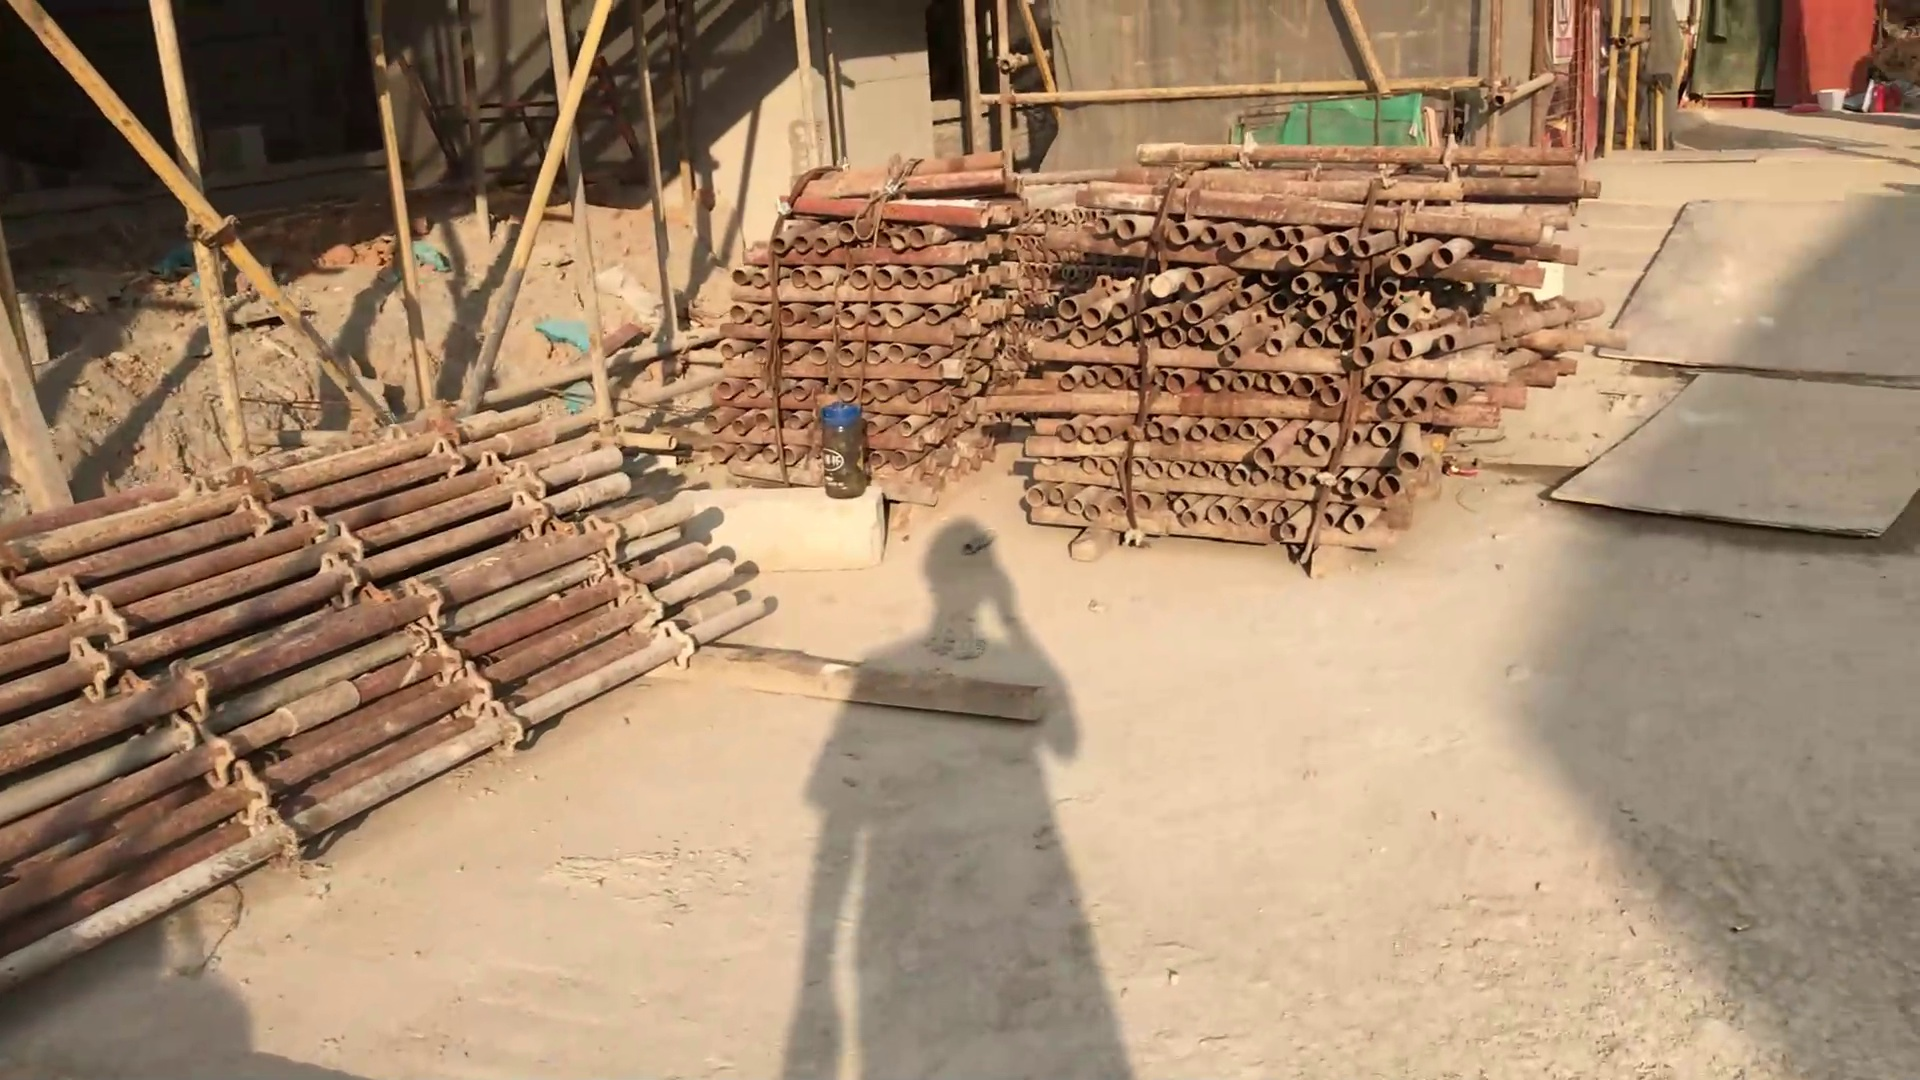scaffold: (1, 404, 728, 990), (1025, 138, 1596, 537), (704, 150, 1029, 477)
